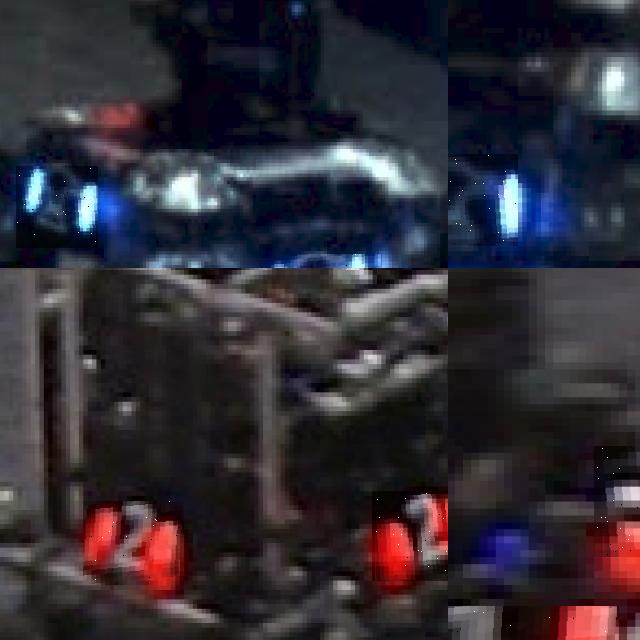Bs: (16, 166, 98, 248), (448, 154, 517, 246)
R1: (594, 445, 640, 557)
R2: (83, 501, 184, 585), (372, 491, 448, 580)
